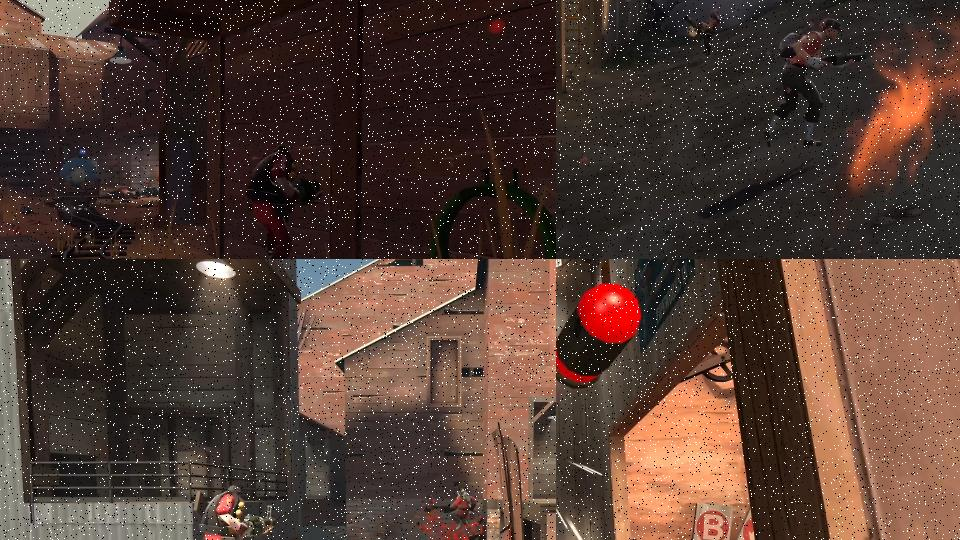Enemy: (763, 19, 867, 148), (244, 143, 324, 259), (198, 484, 260, 540), (427, 488, 477, 529), (685, 10, 721, 57)
